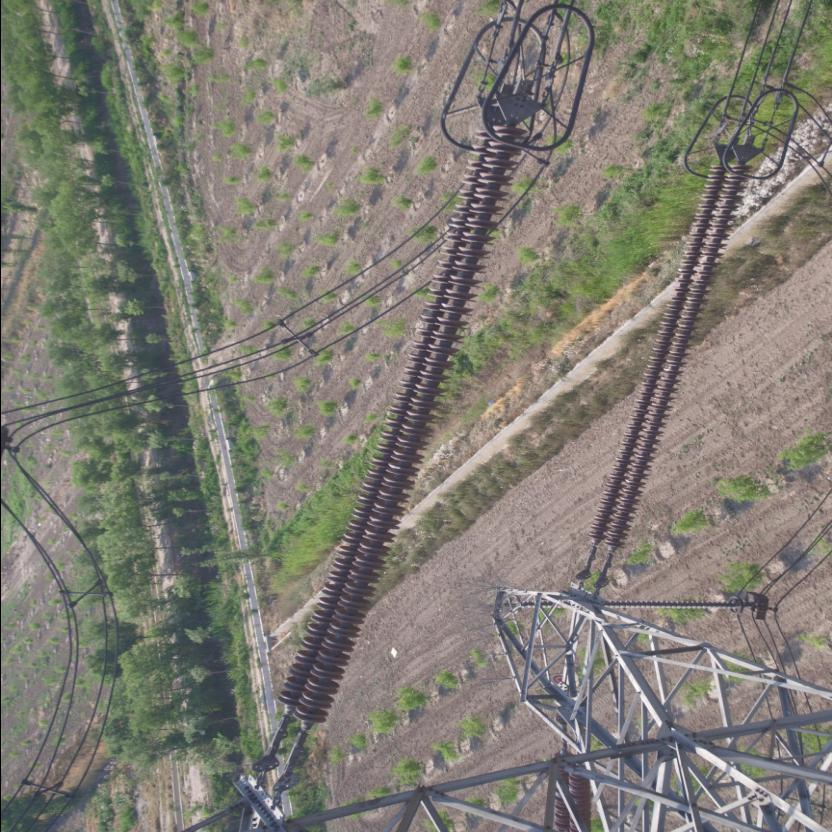insulator: (270, 112, 526, 744), (584, 156, 748, 558)
